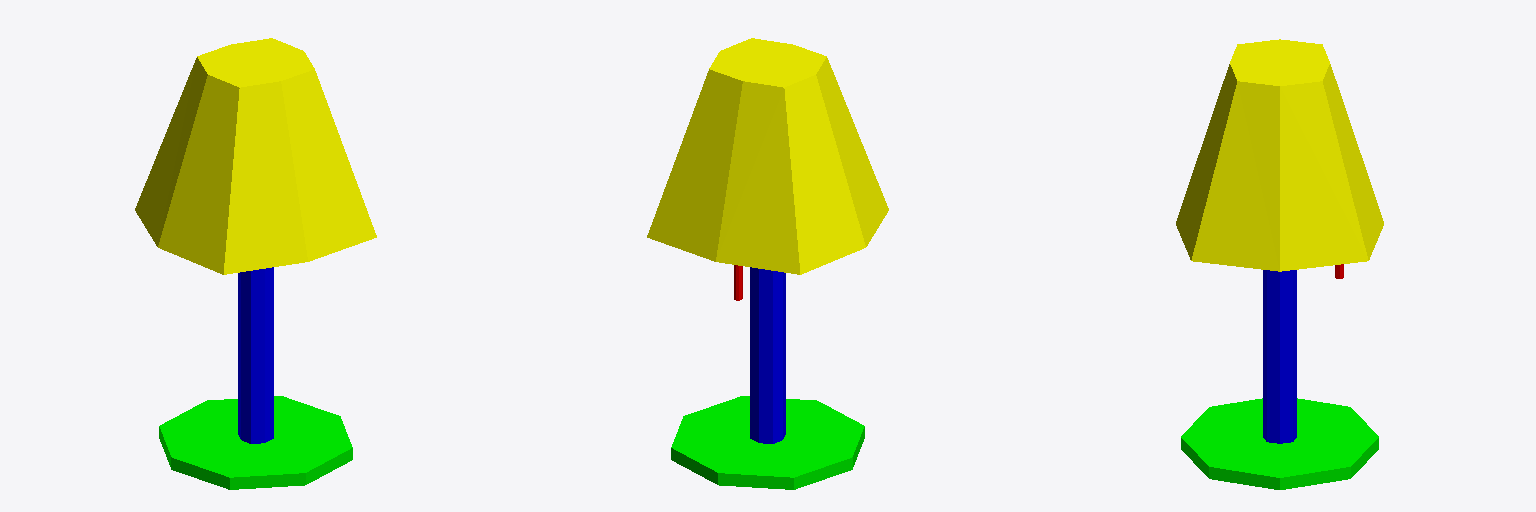
Rendered from Export_Lamp.obj.
The picture shows the model from 3 angles: view 1: azimuth 30°, elevation 25°; view 2: azimuth 150°, elevation 25°; view 3: azimuth 270°, elevation 25°; orthographic projection.
Visible parts, largest first — view 1: Lamp; view 2: Lamp; view 3: Lamp.
Part boxes in pixels (bbox=[...]): Lamp: bbox=[135, 38, 376, 489]; Lamp: bbox=[647, 38, 888, 489]; Lamp: bbox=[1176, 39, 1383, 489].
Bounding box in the file's own units: 4.42 × 8.31 × 4.07.